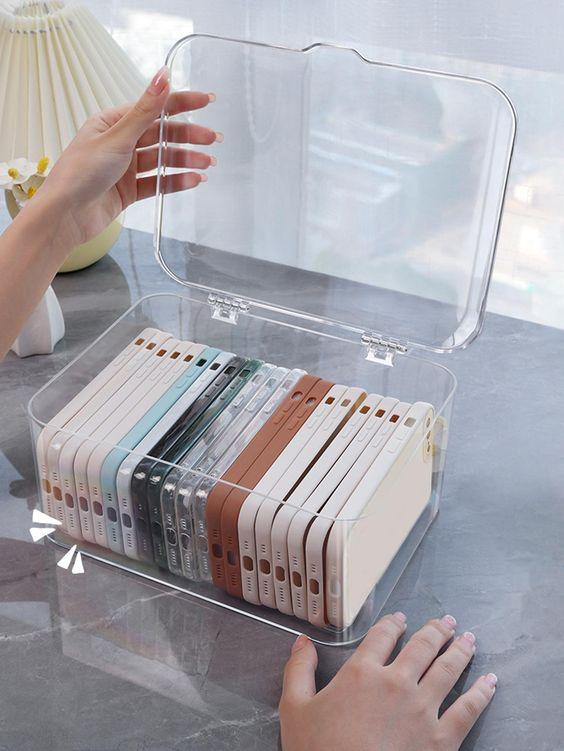PS: (30, 12, 508, 642)
